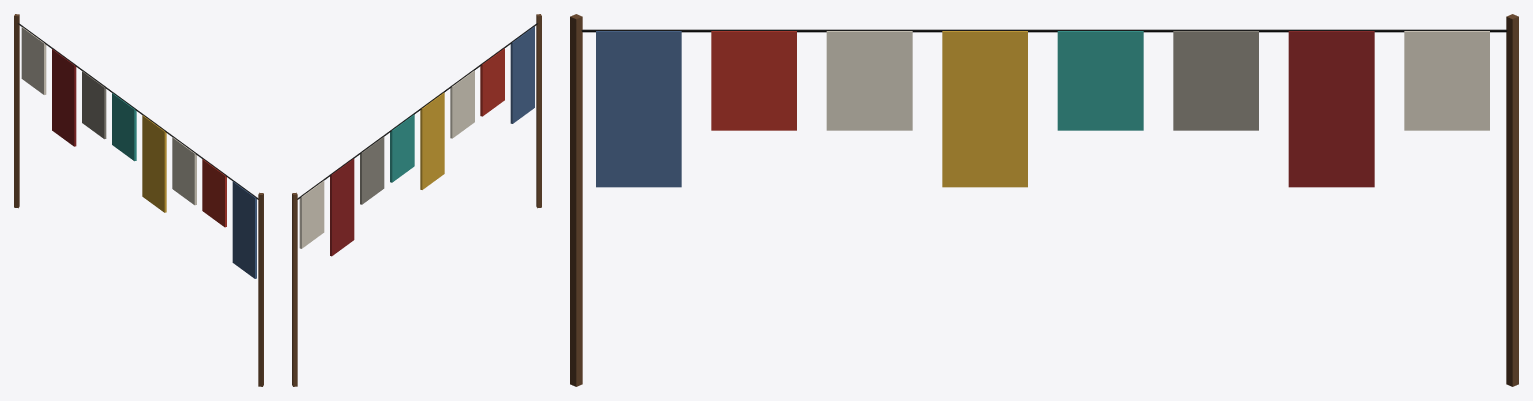
The model's file is tvattlina_eg.glb.
The picture shows the model from 3 angles, left to right: view 1: azimuth 30°, elevation 25°; view 2: azimuth 150°, elevation 25°; view 3: azimuth 270°, elevation 25°; orthographic projection. The views are drawn at different scales.
Parts seen in each view (by area): view 1: tvattlina_eg; view 2: tvattlina_eg; view 3: tvattlina_eg.
Part boxes in pixels (x1=…): tvattlina_eg: x1=14, y1=14, x2=263, y2=386; tvattlina_eg: x1=292, y1=14, x2=541, y2=386; tvattlina_eg: x1=570, y1=14, x2=1518, y2=386.
Bounding box in the file's own units: 0.08 × 2.6 × 6.08.
